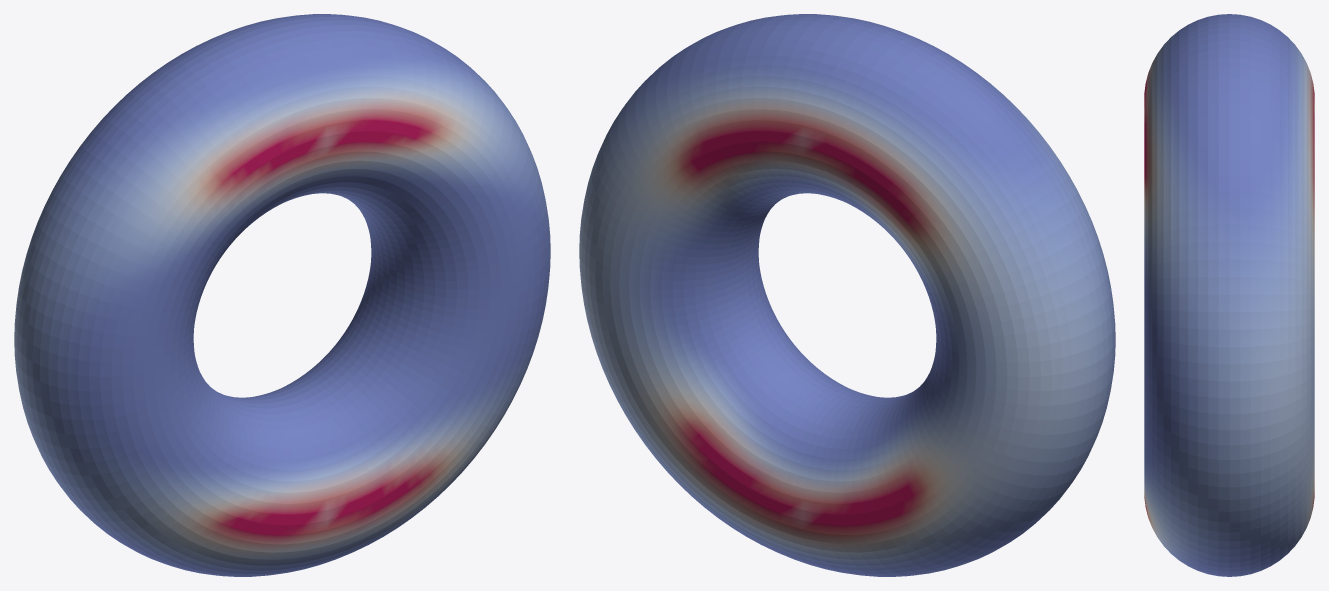
The picture shows the model from 3 angles, left to right: view 1: azimuth 30°, elevation 25°; view 2: azimuth 150°, elevation 25°; view 3: azimuth 270°, elevation 25°; orthographic projection. The views are drawn at different scales.
Visible parts, largest first — view 1: world; view 2: world; view 3: world.
Boxes of the visible parts, <box> form: world: <box>14,14,550,576</box>; world: <box>579,14,1115,576</box>; world: <box>1144,14,1314,576</box>.
Bounding box in the file's own units: 16.27 × 16.27 × 4.92.
